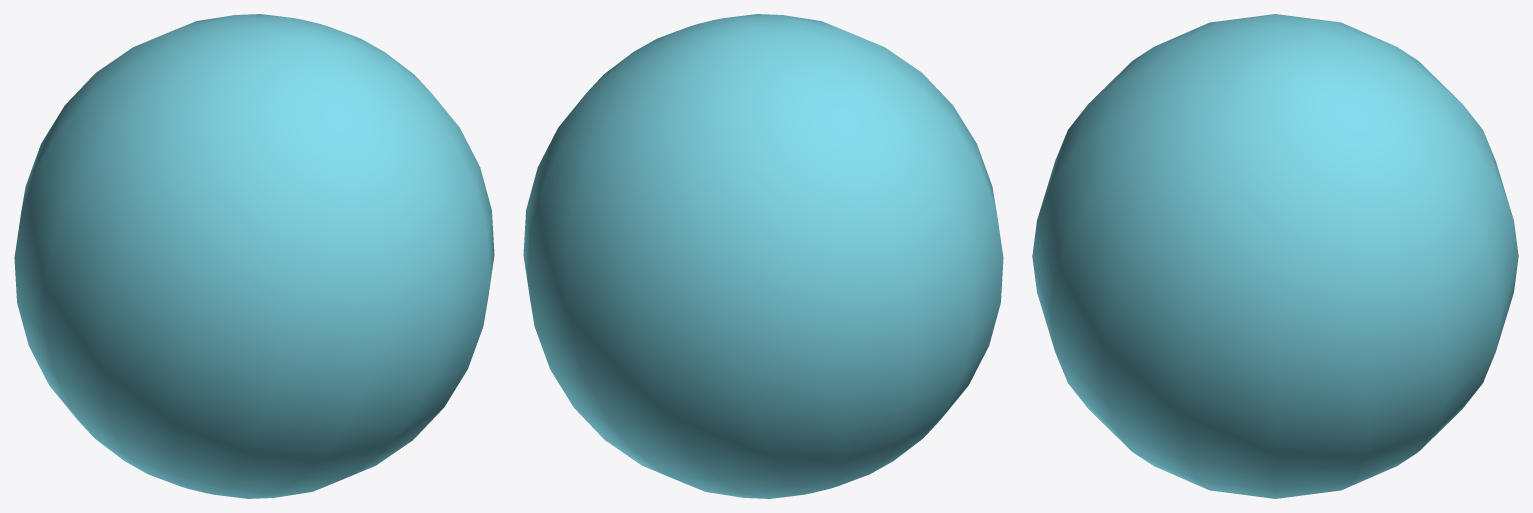
The picture shows the model from 3 angles, left to right: view 1: azimuth 30°, elevation 25°; view 2: azimuth 150°, elevation 25°; view 3: azimuth 270°, elevation 25°; orthographic projection.
Parts seen in each view (by area): view 1: orbinside2.001; view 2: orbinside2.001; view 3: orbinside2.001.
Boxes of the visible parts, <box> form: orbinside2.001: <box>14,14,494,498</box>; orbinside2.001: <box>523,14,1003,498</box>; orbinside2.001: <box>1032,14,1518,498</box>.
Size of the model in its own units: 0.3988 by 0.3988 by 0.4.
